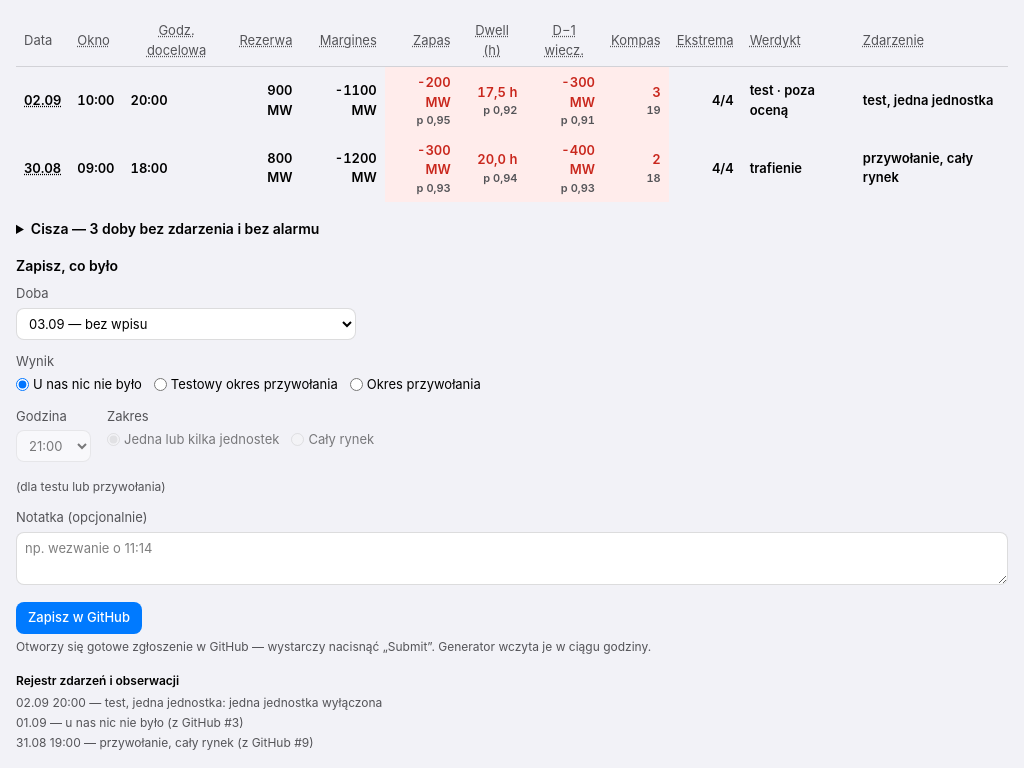
Test: Badanie › "Zapisz, co było" › disables hour and scope for "none" instead of hiding them, and enables them for "test"
(page scrolled)
expect the dropdown labelled "Godzina" is disabled: met, box top-left (16, 430), bottom-right (91, 462)
expect the text "(dla testu lub przywołania)" is shown: met, box top-left (16, 479), bottom-right (166, 494)
Click the radio button labelled "Testowy okres przywołania" at [160, 385], box top-left (154, 378), bottom-right (167, 391)
(page scrolled)
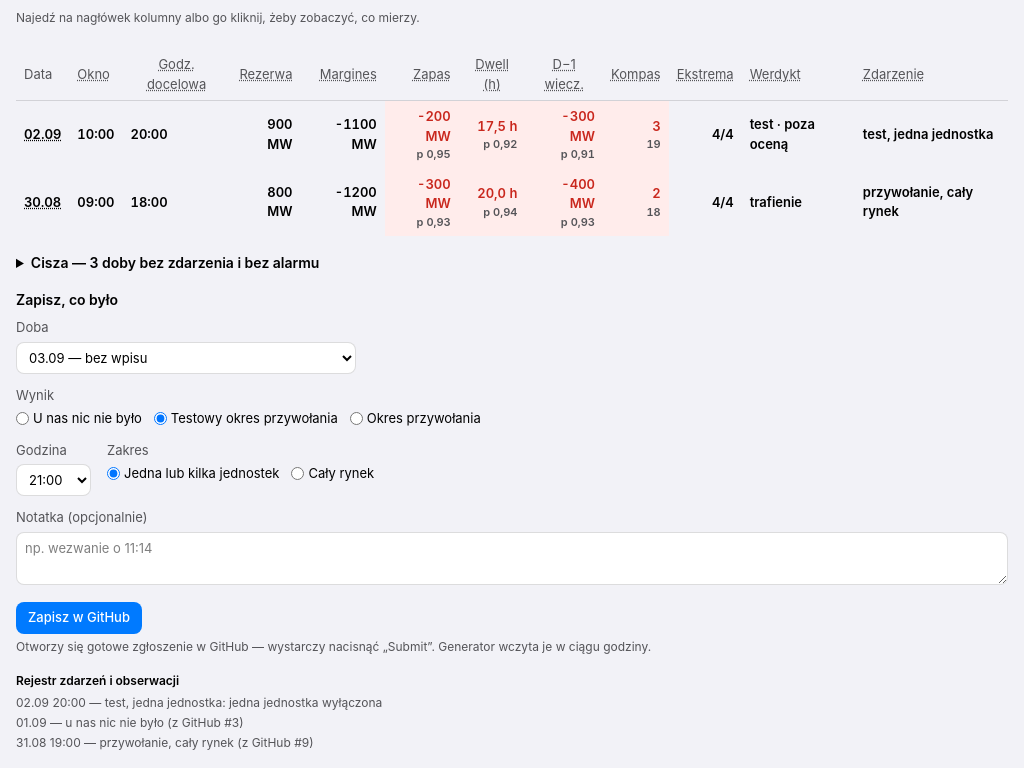
expect the radio button labelled "Jedna lub kilka jednostek" is enabled: met, box top-left (107, 467), bottom-right (120, 480)
expect the dropdown labelled "Godzina" is enabled: met, box top-left (16, 464), bottom-right (91, 496)
expect the text "(dla testu lub przywołania)" is gone: met
